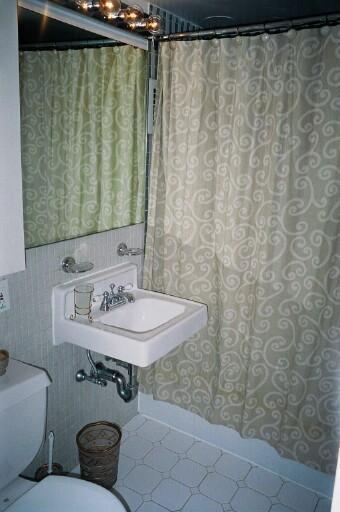Bote de Basura: (74, 420, 131, 487)
Ducha: (157, 51, 334, 465)
Lavamanos: (58, 268, 215, 395)
Sanitario: (3, 356, 131, 510)
